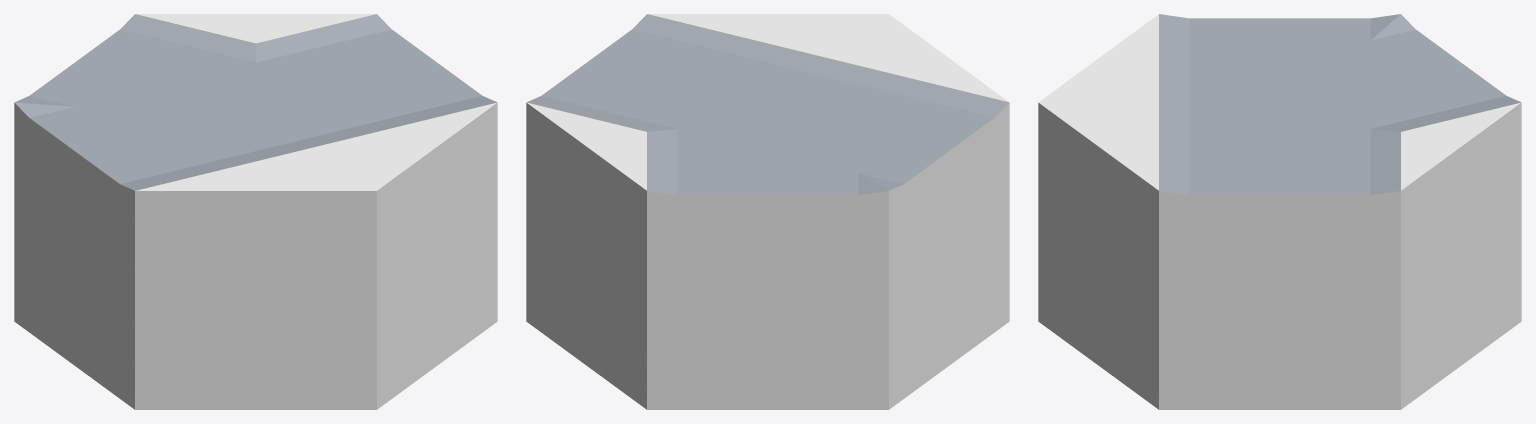
The model's file is snow_road5.fbx.
3 views of the same model, side by side, from view 1: azimuth 30°, elevation 25°; view 2: azimuth 150°, elevation 25°; view 3: azimuth 270°, elevation 25° (orthographic).
Visible parts, largest first — view 1: Cylinder; view 2: Cylinder; view 3: Cylinder.
Part boxes in pixels (x1,y1,x2,y2): Cylinder: (14, 14, 497, 409); Cylinder: (526, 14, 1009, 409); Cylinder: (1038, 14, 1521, 409).
Bounding box in the file's own units: 1.73 × 1 × 2.
